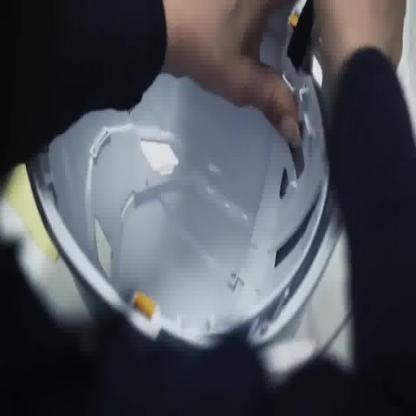helmet: (25, 0, 358, 378)
